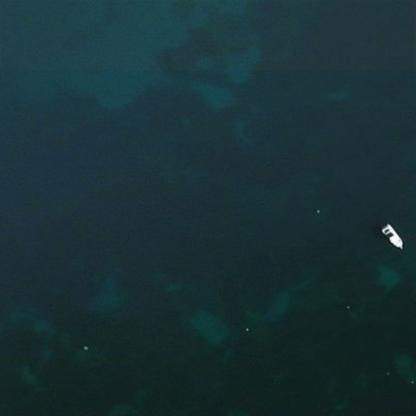ship: (374, 220, 404, 252)
